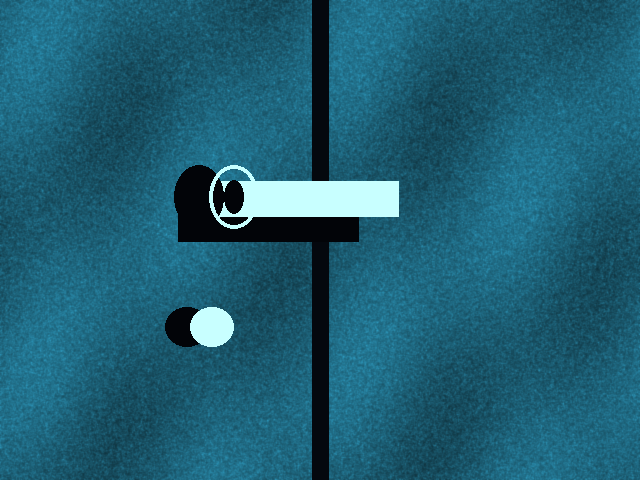Bottle: (190, 307, 233, 346)
Metal Object: (218, 181, 398, 216)
Tire: (209, 165, 258, 228)
